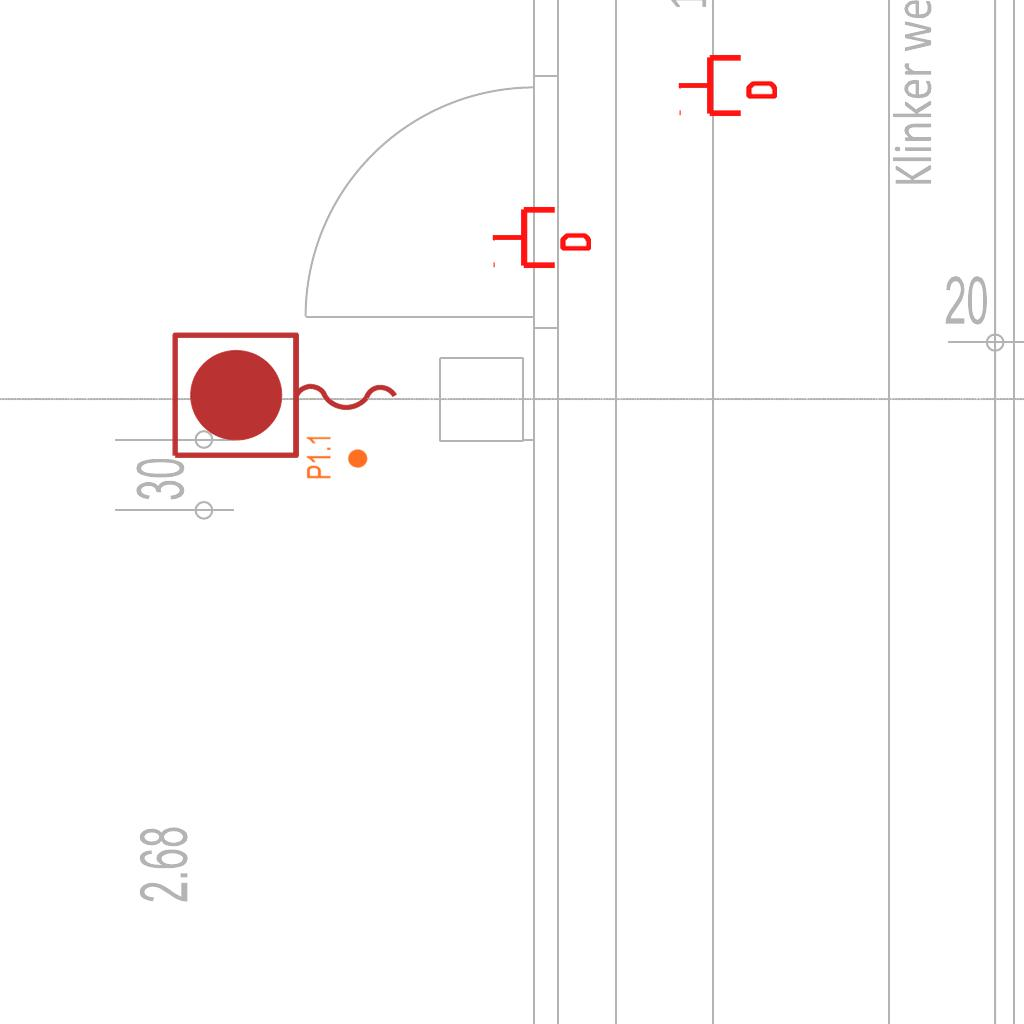Datenanschluss_einfach: (491, 203, 591, 272), (677, 51, 777, 120)
Downlight_LED_Einbauleuchten_Flur: (305, 434, 369, 480)
Zugtaster: (164, 325, 408, 469)
